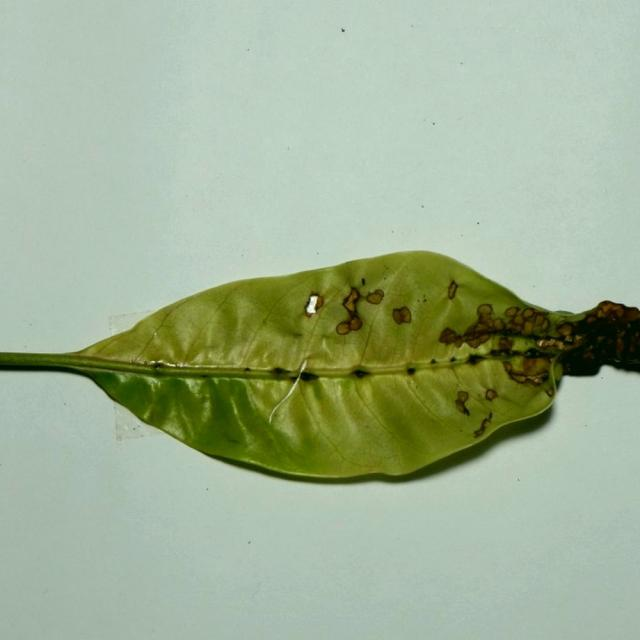Anthracnose: (584, 303, 638, 355), (469, 300, 522, 350), (334, 287, 363, 335), (502, 358, 548, 386), (595, 301, 629, 319), (304, 293, 323, 317), (455, 390, 471, 417), (474, 414, 492, 438), (438, 327, 459, 346), (392, 306, 412, 325), (365, 289, 385, 305), (567, 334, 587, 348), (557, 322, 575, 337), (445, 355, 471, 365), (447, 280, 458, 300), (582, 345, 596, 360), (477, 303, 493, 316), (504, 306, 520, 318), (299, 372, 318, 382), (353, 369, 370, 379), (485, 389, 498, 401), (521, 308, 535, 319), (130, 356, 144, 366), (273, 367, 288, 375), (152, 361, 163, 370), (586, 315, 598, 323), (406, 367, 416, 375), (487, 411, 493, 421), (422, 295, 428, 302), (430, 358, 437, 364), (361, 278, 366, 286), (244, 367, 252, 372), (450, 356, 456, 362), (153, 331, 158, 337)
Mango: (0, 252, 639, 487)
